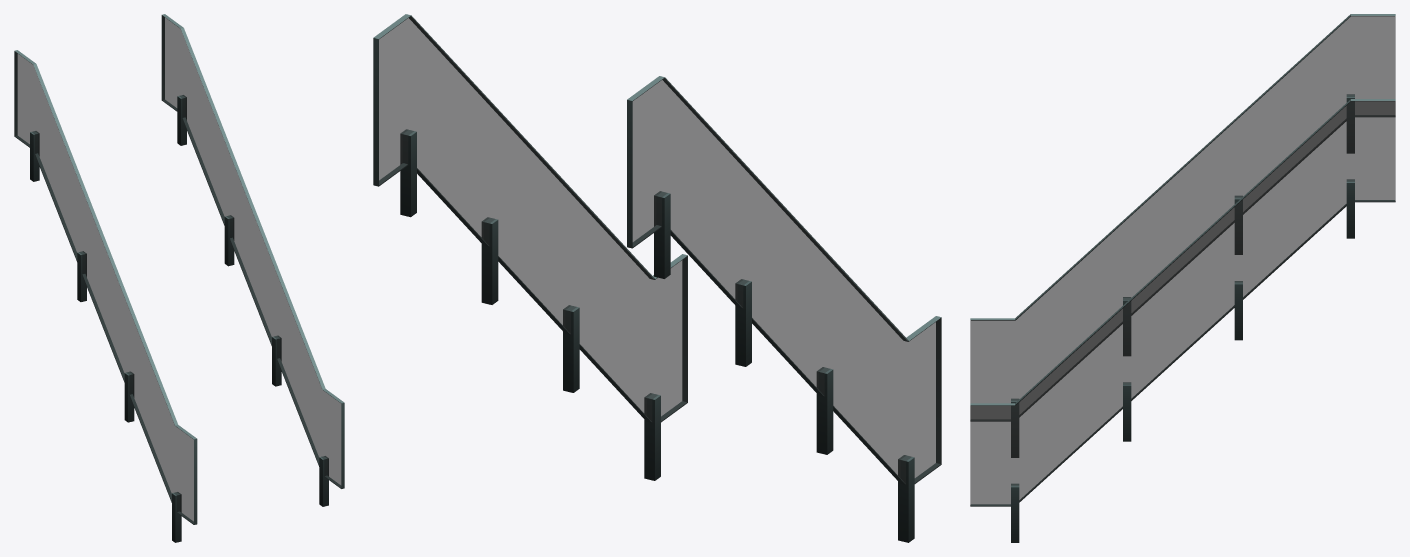
File: TSP_House_Stairs_Rails_01B.fbx
The picture shows the model from 3 angles, left to right: view 1: azimuth 30°, elevation 25°; view 2: azimuth 150°, elevation 25°; view 3: azimuth 270°, elevation 25°; orthographic projection. The views are drawn at different scales.
Visible parts, largest first — view 1: TSP_House_Stairs_Rails_01B; view 2: TSP_House_Stairs_Rails_01B; view 3: TSP_House_Stairs_Rails_01B.
Part boxes in pixels (x1=…): TSP_House_Stairs_Rails_01B: x1=14, y1=14, x2=344, y2=542; TSP_House_Stairs_Rails_01B: x1=373, y1=14, x2=941, y2=542; TSP_House_Stairs_Rails_01B: x1=970, y1=14, x2=1395, y2=542.
Size of the model in its own units: 1.88 by 4.35 by 3.8.
